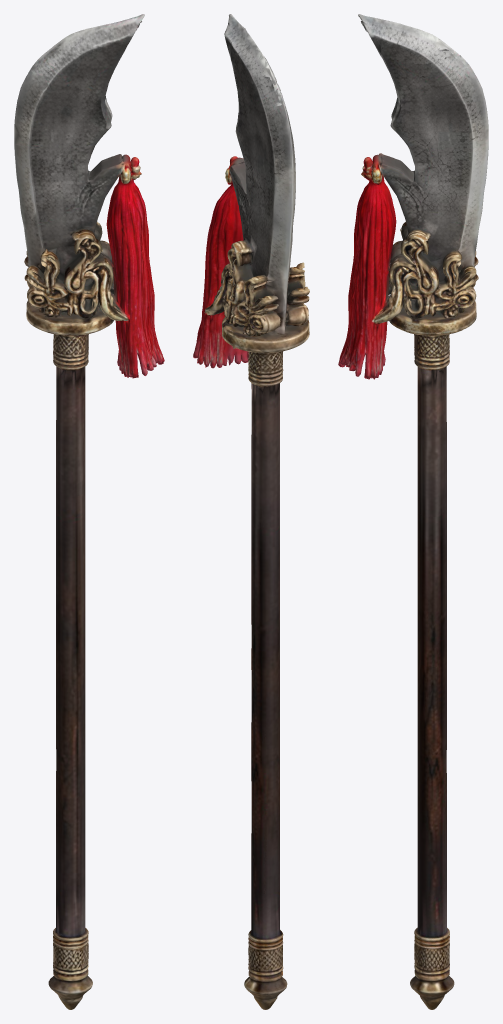
The picture shows the model from 3 angles, left to right: view 1: azimuth 90°, elevation 25°; view 2: azimuth 210°, elevation 25°; view 3: azimuth 270°, elevation 25°; orthographic projection. The views are drawn at different scales.
Visible parts, largest first — view 1: tripo_node_cc1d1e42-15c2-406b-8090-be7192570aae; view 2: tripo_node_cc1d1e42-15c2-406b-8090-be7192570aae; view 3: tripo_node_cc1d1e42-15c2-406b-8090-be7192570aae.
Boxes of the visible parts, box(x1,y1,x2,y2) form: tripo_node_cc1d1e42-15c2-406b-8090-be7192570aae: box(14, 14, 164, 1009); tripo_node_cc1d1e42-15c2-406b-8090-be7192570aae: box(193, 14, 309, 1009); tripo_node_cc1d1e42-15c2-406b-8090-be7192570aae: box(338, 14, 488, 1009).
Bounding box in the file's own units: 0.0811 × 0.9846 × 0.1349.
1 material, 1 textured.
